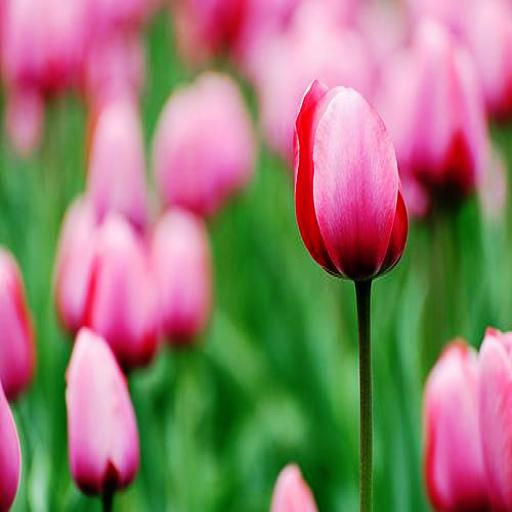tulip: (292, 78, 410, 280), (422, 323, 512, 512), (62, 328, 144, 496)
